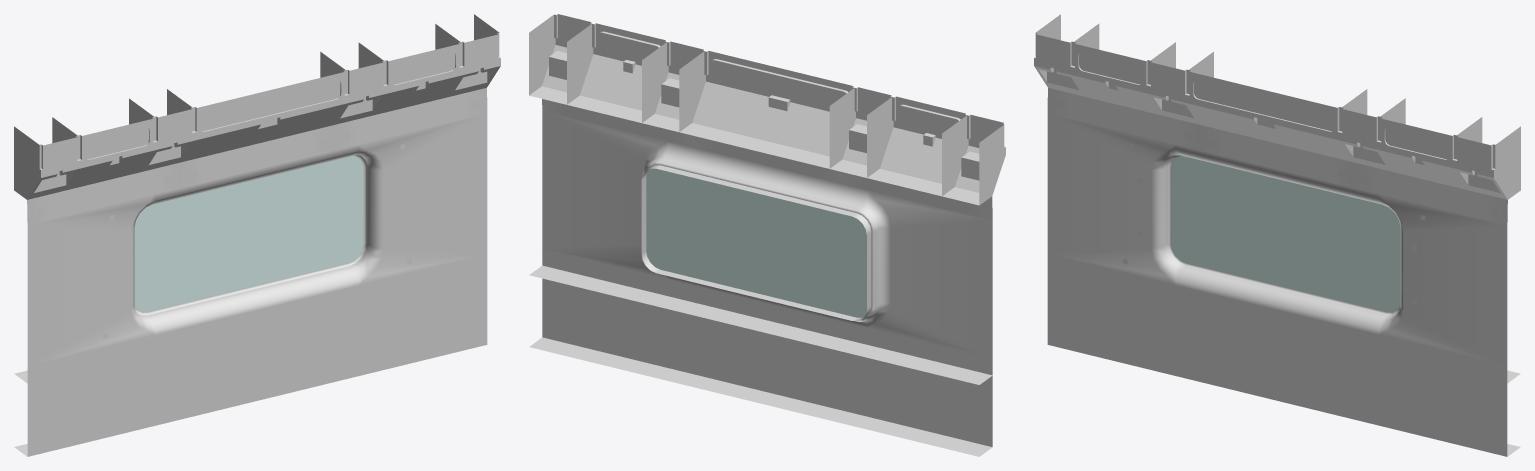
File: SM_Window_AD.fbx
3 views of the same model, side by side, from view 1: azimuth 30°, elevation 25°; view 2: azimuth 150°, elevation 25°; view 3: azimuth 330°, elevation 25° (orthographic). The views are drawn at different scales.
Visible parts, largest first — view 1: SM_Window_AD; view 2: SM_Window_AD; view 3: SM_Window_AD.
Part boxes in pixels (x1,y1,x2,y2): SM_Window_AD: (14, 14, 500, 456); SM_Window_AD: (529, 14, 1005, 456); SM_Window_AD: (1034, 14, 1520, 456).
Size of the model in its own units: 300 by 30.59 by 200.
